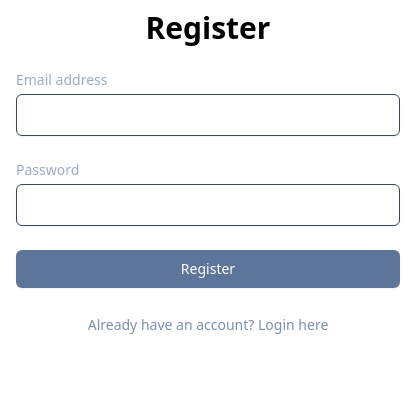
Test: Register Component › displays error message on failed registration
Type "existing@example.com" into the field labelled "Email address".
click(208, 115); type("existing@example.com")  # box [16,94,400,136]
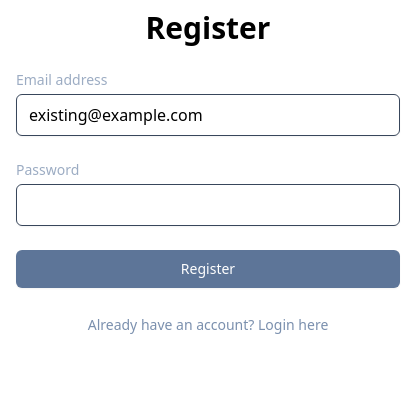
Type "password123" into the password field labelled "Password".
click(208, 205); type("password123")  # box [16,184,400,226]
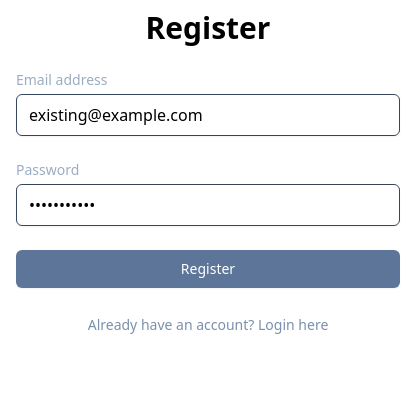
Click the button "Register".
click(208, 269)  # box [16,250,400,288]
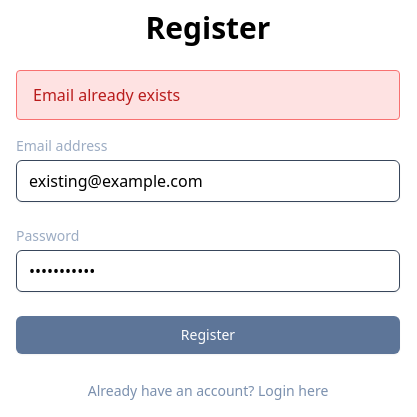
Now the text "Email already exists" is shown, box [33,84,180,106]
